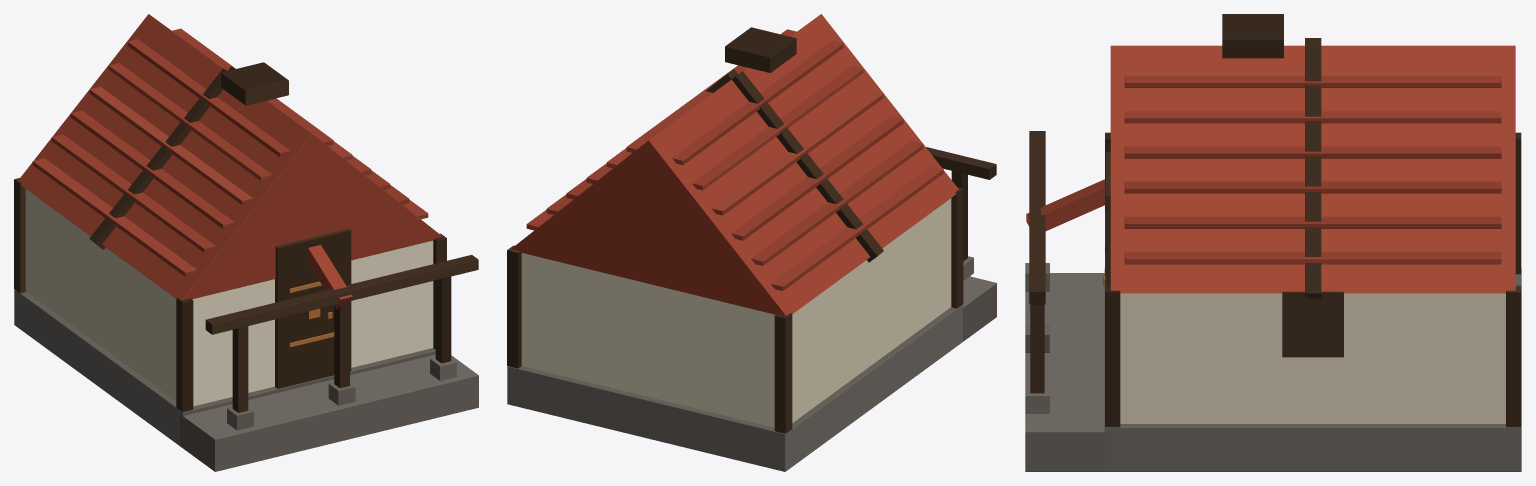
The model's file is House_Chalco_a.fbx.
3 views of the same model, side by side, from view 1: azimuth 30°, elevation 25°; view 2: azimuth 150°, elevation 25°; view 3: azimuth 270°, elevation 25° (orthographic). The views are drawn at different scales.
Parts seen in each view (by area): view 1: House_Chalco_a; view 2: House_Chalco_a; view 3: House_Chalco_a.
Part boxes in pixels (<box>): House_Chalco_a: <box>14,14,478,471</box>; House_Chalco_a: <box>507,14,996,471</box>; House_Chalco_a: <box>1025,14,1521,471</box>.
Size of what is drawn, in the model's own units: 3.83 by 3.92 by 4.83.
